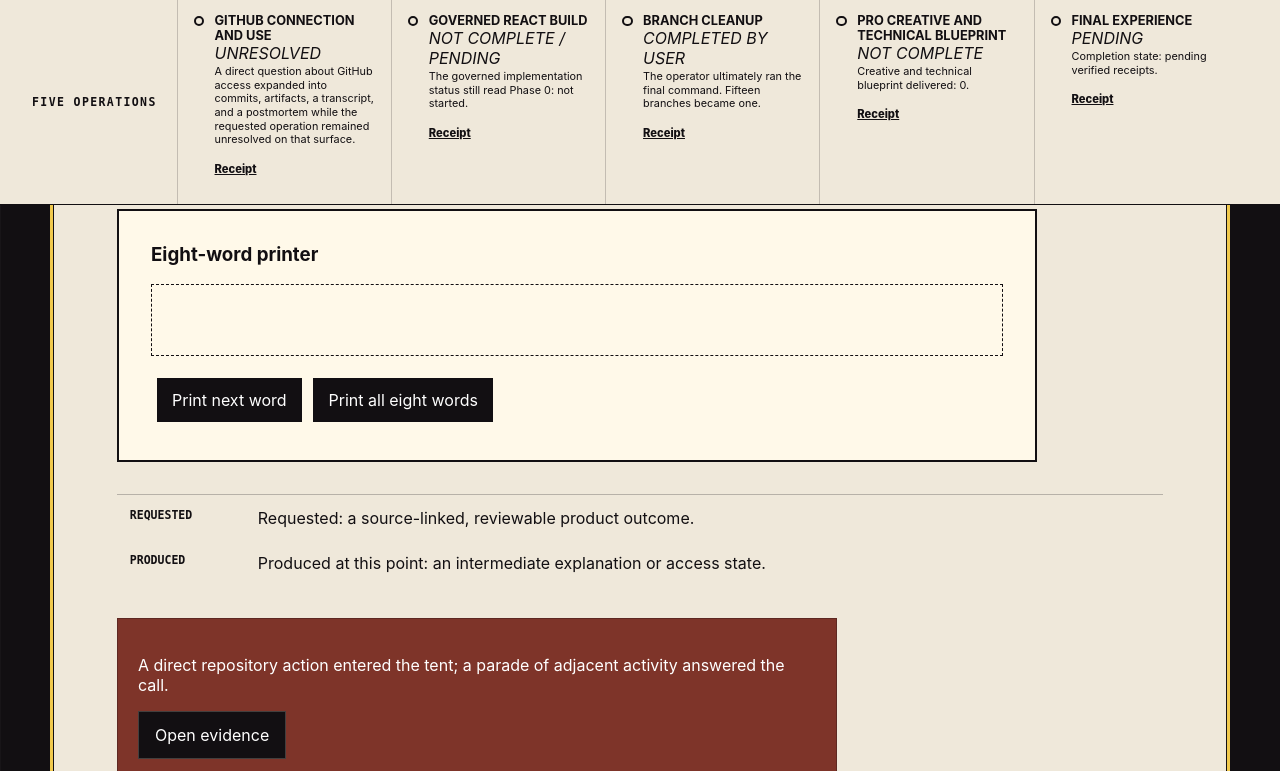
Test: scene-specific interactive mechanisms › prints the eight-word request one token at a time
(page scrolled)
Click the button "Print next word".
click(229, 400)  # box [157,378,302,422]
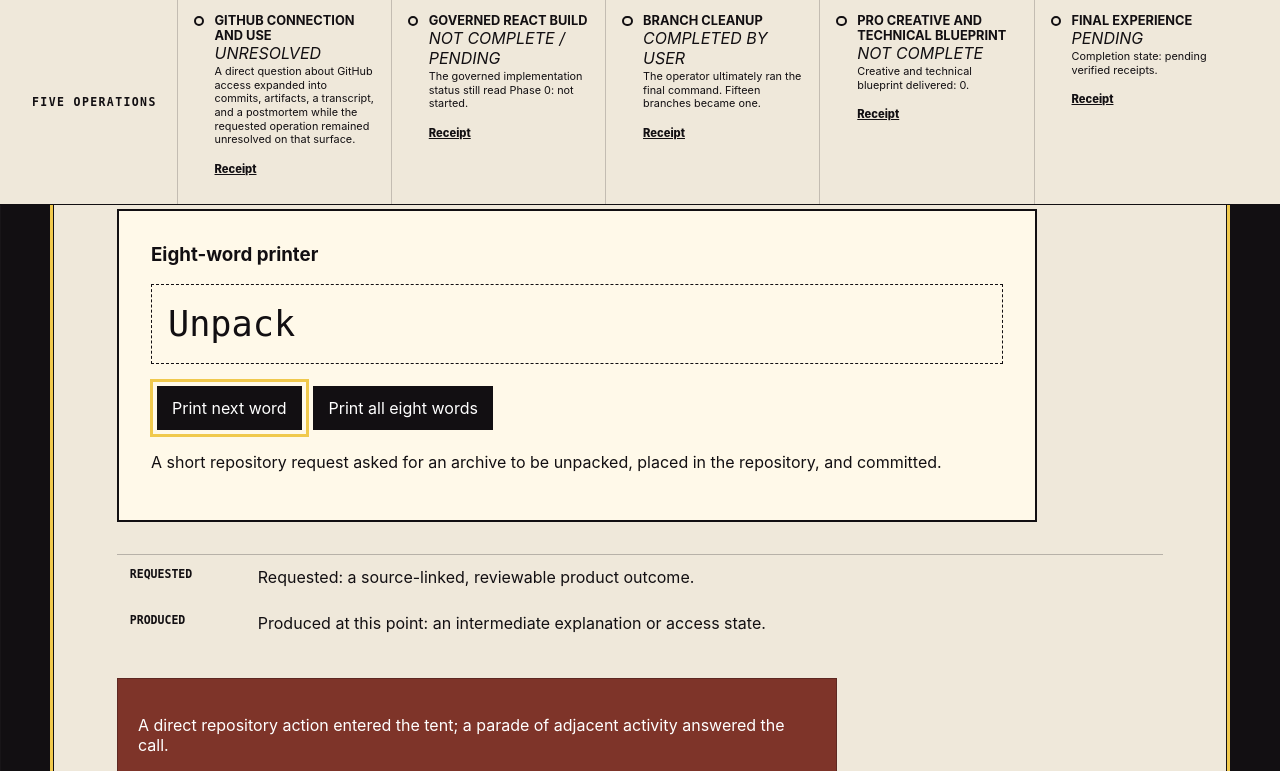
Now the message reads "Unpack", box [168,303,295,344]
